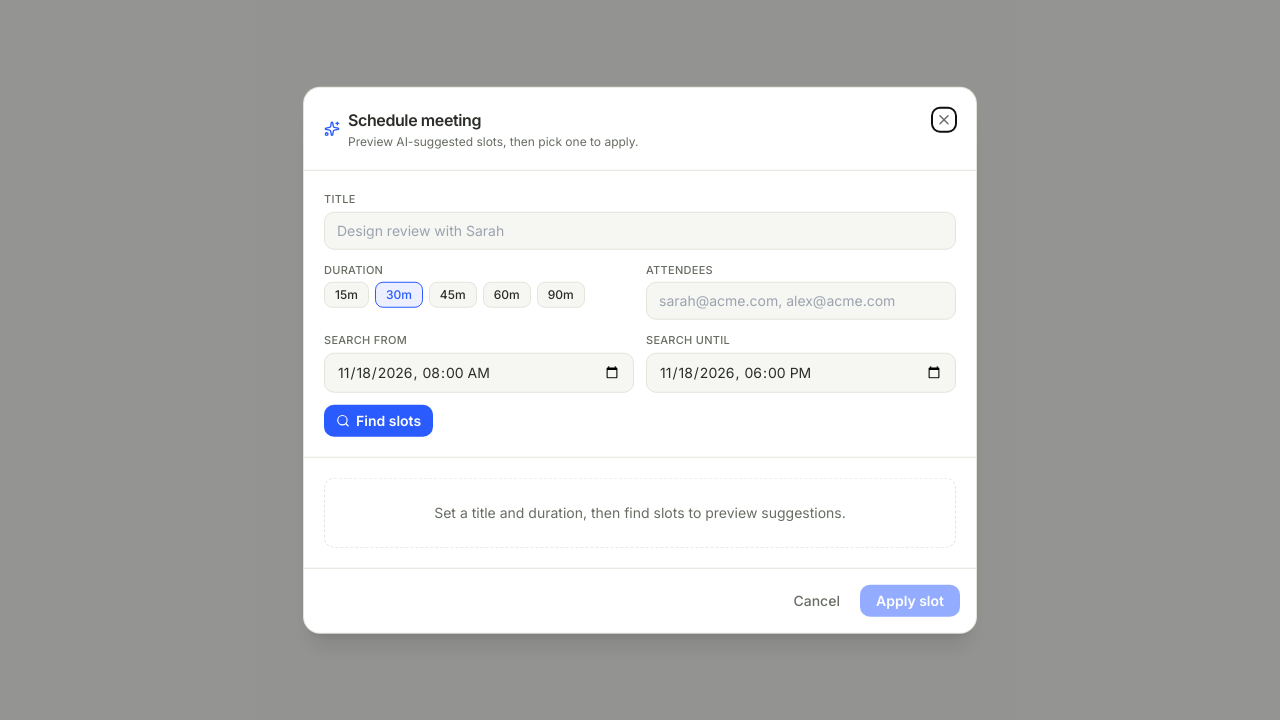
it: PAC-135: the Suggest a time modal draws backend-scale scores › bars of different widths: best full, worst empty
Type "Sync" into the field labelled "Title" at (640, 230), box [324,211,956,249]
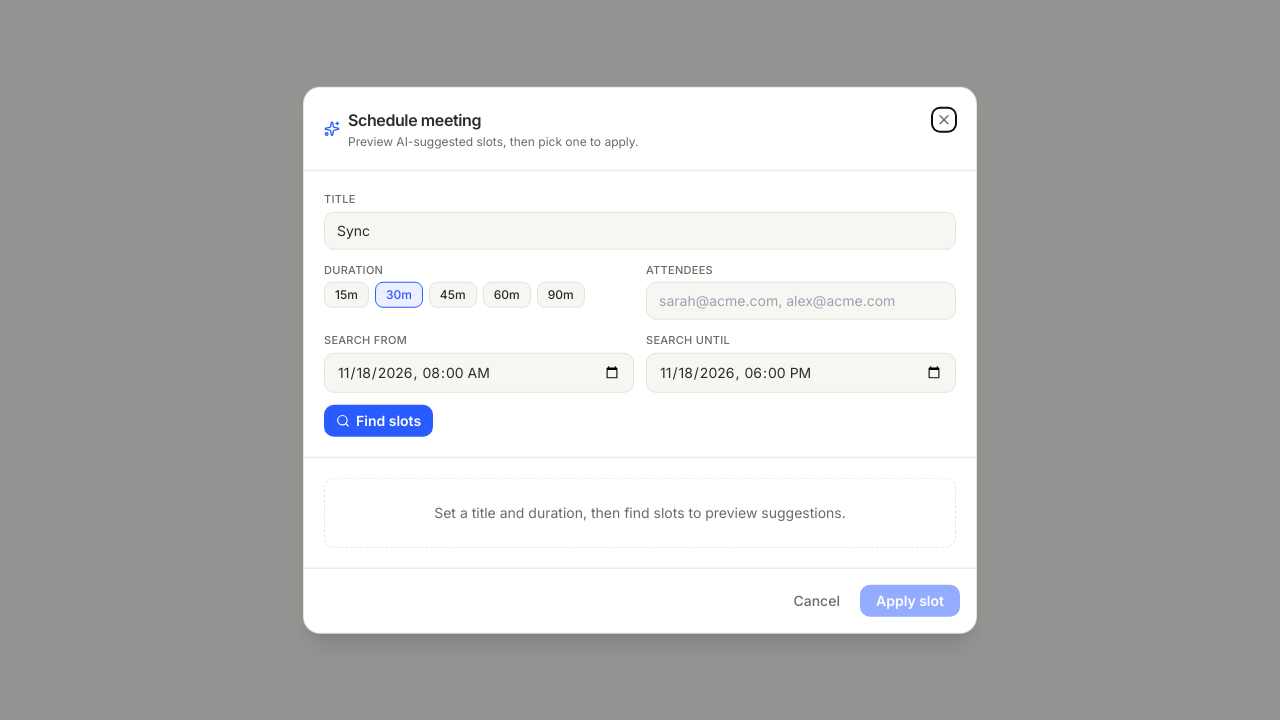
Type "bo@co.com" into the field labelled "Attendees" at (801, 301), box [646,282,956,320]
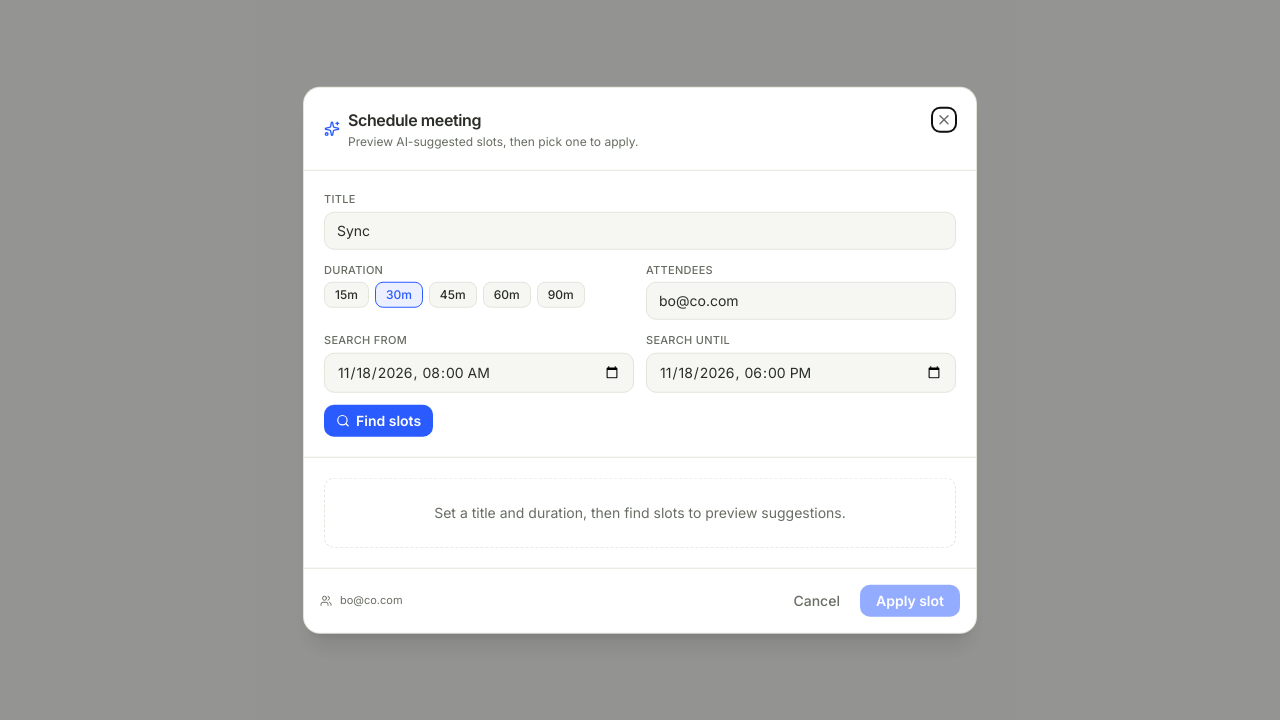
Click the button "Find slots" at (379, 420), box [324,404,433,436]
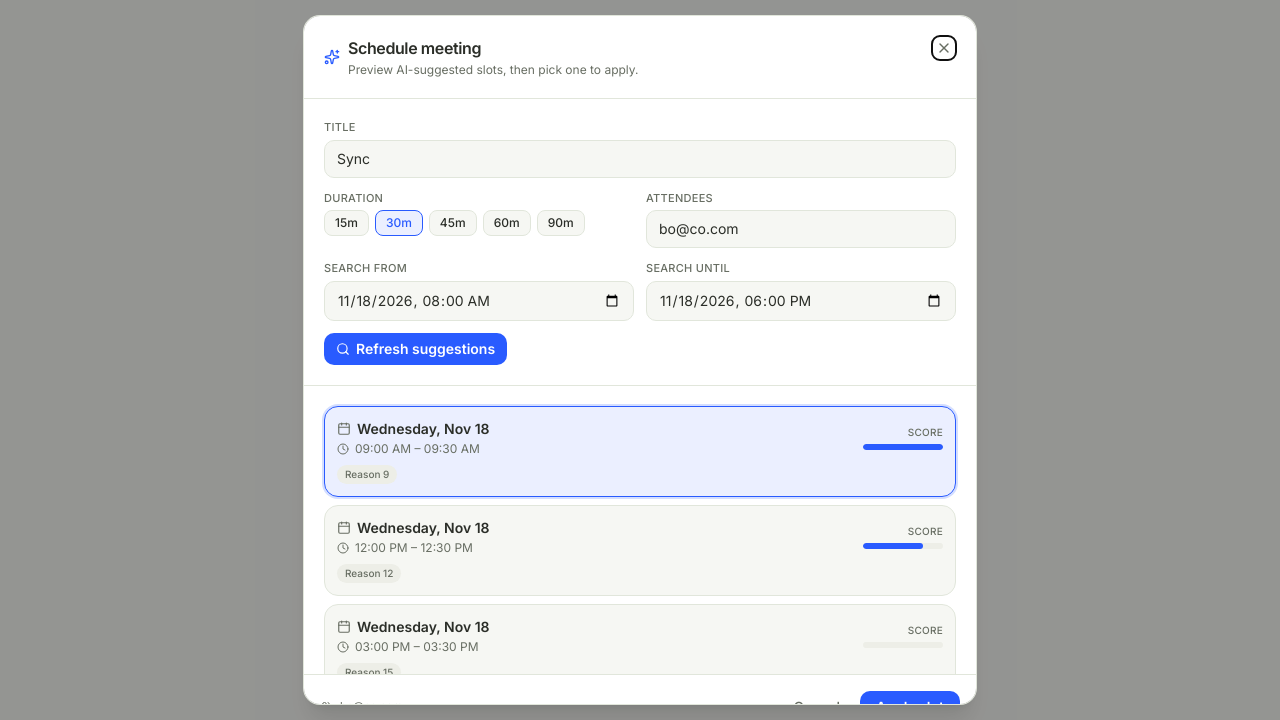
Check: the text "Reason 15" is shown, box [345,666,393,674]
